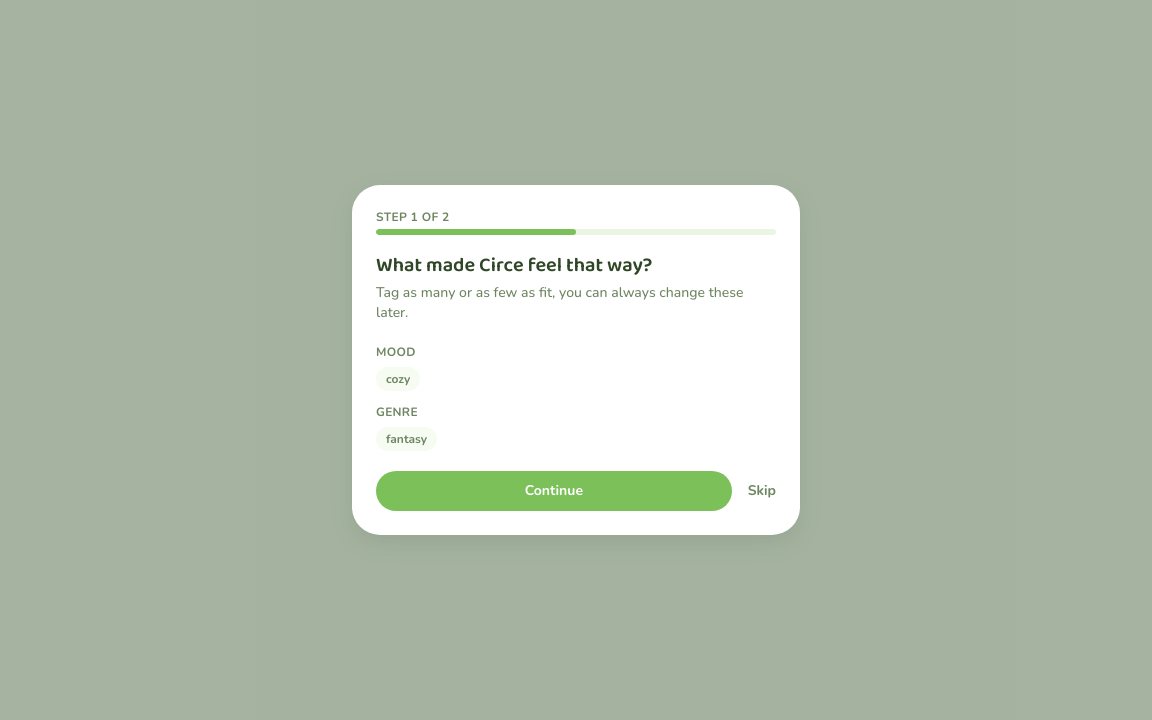
Test case: FirstRatingExperience › advances to the note step on Continue, keeping tapped tags
This screenshot has width=1152, height=720.
Click the button "cozy" at (398, 379), box [376, 367, 420, 391]
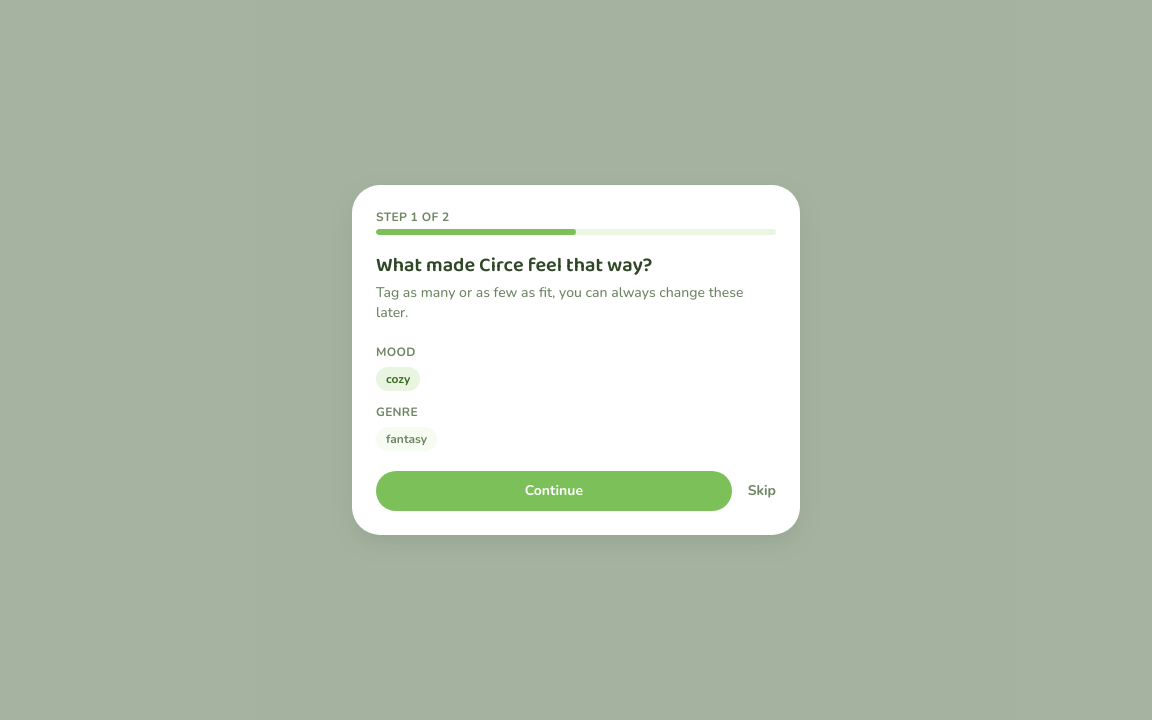
Click the button "Continue" at (554, 491), box [376, 471, 732, 511]
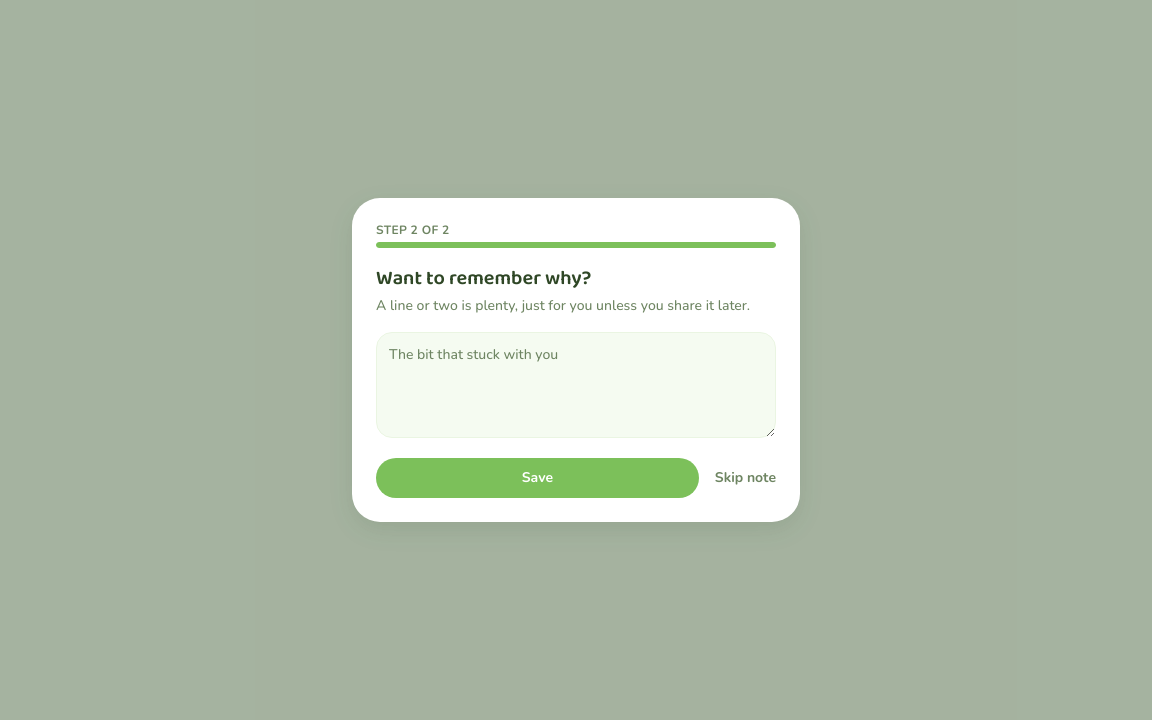
expect the text "Step 2 of 2" is shown: met, box [376, 222, 450, 238]
